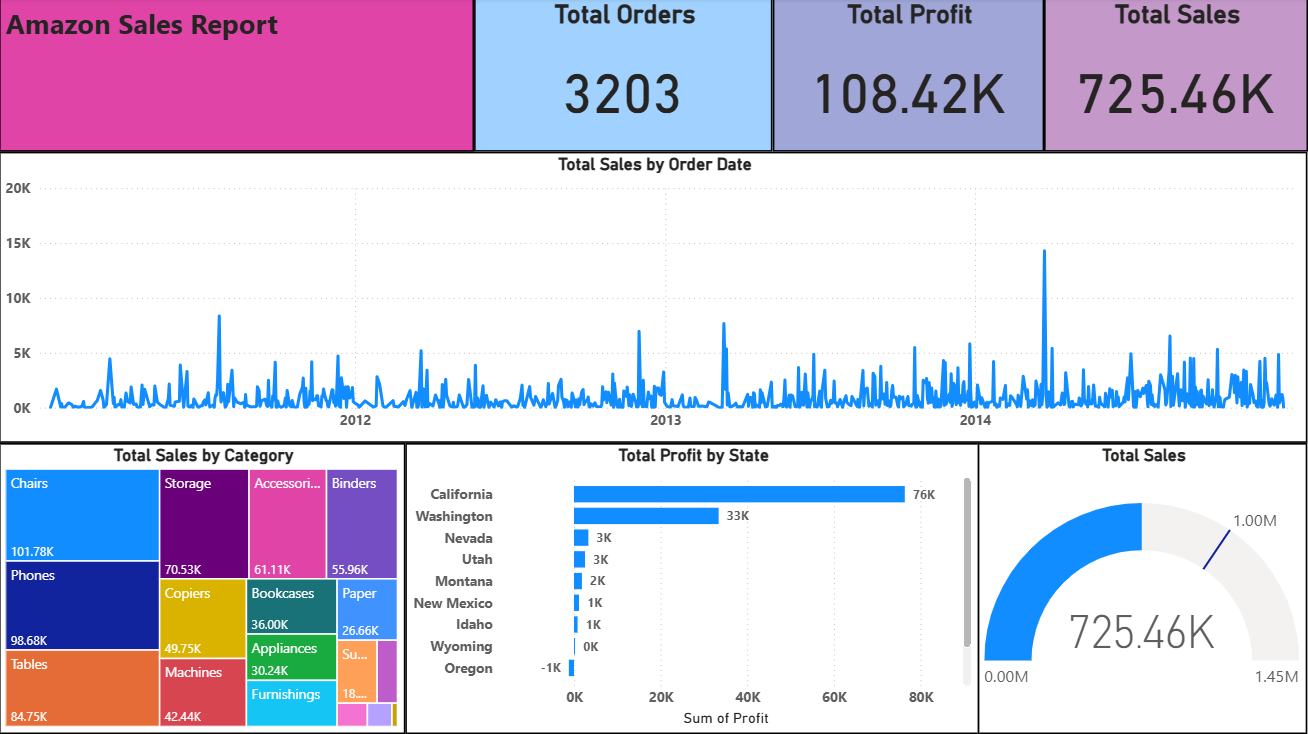

Layout of this report page (visuals, bound fields, positions):
{"tool":"powerbi","page":{"name":"Page 1","canvas":[1280,720],"ordinal":0},"visuals":[{"type":"card","title":"Total Profit","fields":{"Values":["Sum(Walmart.Profit)"]},"box":[756.9,0,265.4,150.4],"z":0},{"type":"card","title":"Total Sales","fields":{"Values":["Sum(Walmart.Sales)"]},"box":[1022.3,0,258,150.4],"z":1000},{"type":"card","title":"Total Orders","fields":{"Values":["CountNonNull(Walmart.Order ID)"]},"box":[464.7,0,292.3,150.4],"z":2000},{"type":"lineChart","title":"Total Sales by Order Date","fields":{"Category":["Walmart.Order Date"],"Y":["Sum(Walmart.Sales)"]},"box":[0,150.4,1280.3,284.9],"z":3000},{"type":"treemap","title":"Total Sales by Category","fields":{"Group":["Walmart.Category"],"Values":["Sum(Walmart.Sales)"]},"box":[0,435.3,397.4,284.9],"z":4000},{"type":"clusteredBarChart","title":"Total Profit by State","fields":{"Category":["Walmart.City"],"Y":["Sum(Walmart.Profit)"]},"box":[397.4,435.3,561.3,284.9],"z":5000},{"type":"gauge","title":"Total Sales","fields":{"Y":["Sum(Walmart.Sales)"]},"box":[958,435,322,285],"z":6000},{"type":"textbox","box":[0,0,465,150],"z":7000}]}

Visuals, with their boxes in screenshot pixels (x1, y1, x2, y2), scaled from the page's 1280x720 canvas onto the 1308x734 screenshot:
"Total Profit" card: {"left": 773, "top": 0, "right": 1045, "bottom": 153}
"Total Sales" card: {"left": 1045, "top": 0, "right": 1307, "bottom": 153}
"Total Orders" card: {"left": 475, "top": 0, "right": 774, "bottom": 153}
"Total Sales by Order Date" lineChart: {"left": 0, "top": 153, "right": 1307, "bottom": 444}
"Total Sales by Category" treemap: {"left": 0, "top": 444, "right": 406, "bottom": 733}
"Total Profit by State" clusteredBarChart: {"left": 406, "top": 444, "right": 980, "bottom": 733}
"Total Sales" gauge: {"left": 979, "top": 443, "right": 1307, "bottom": 733}
textbox: {"left": 0, "top": 0, "right": 475, "bottom": 153}
